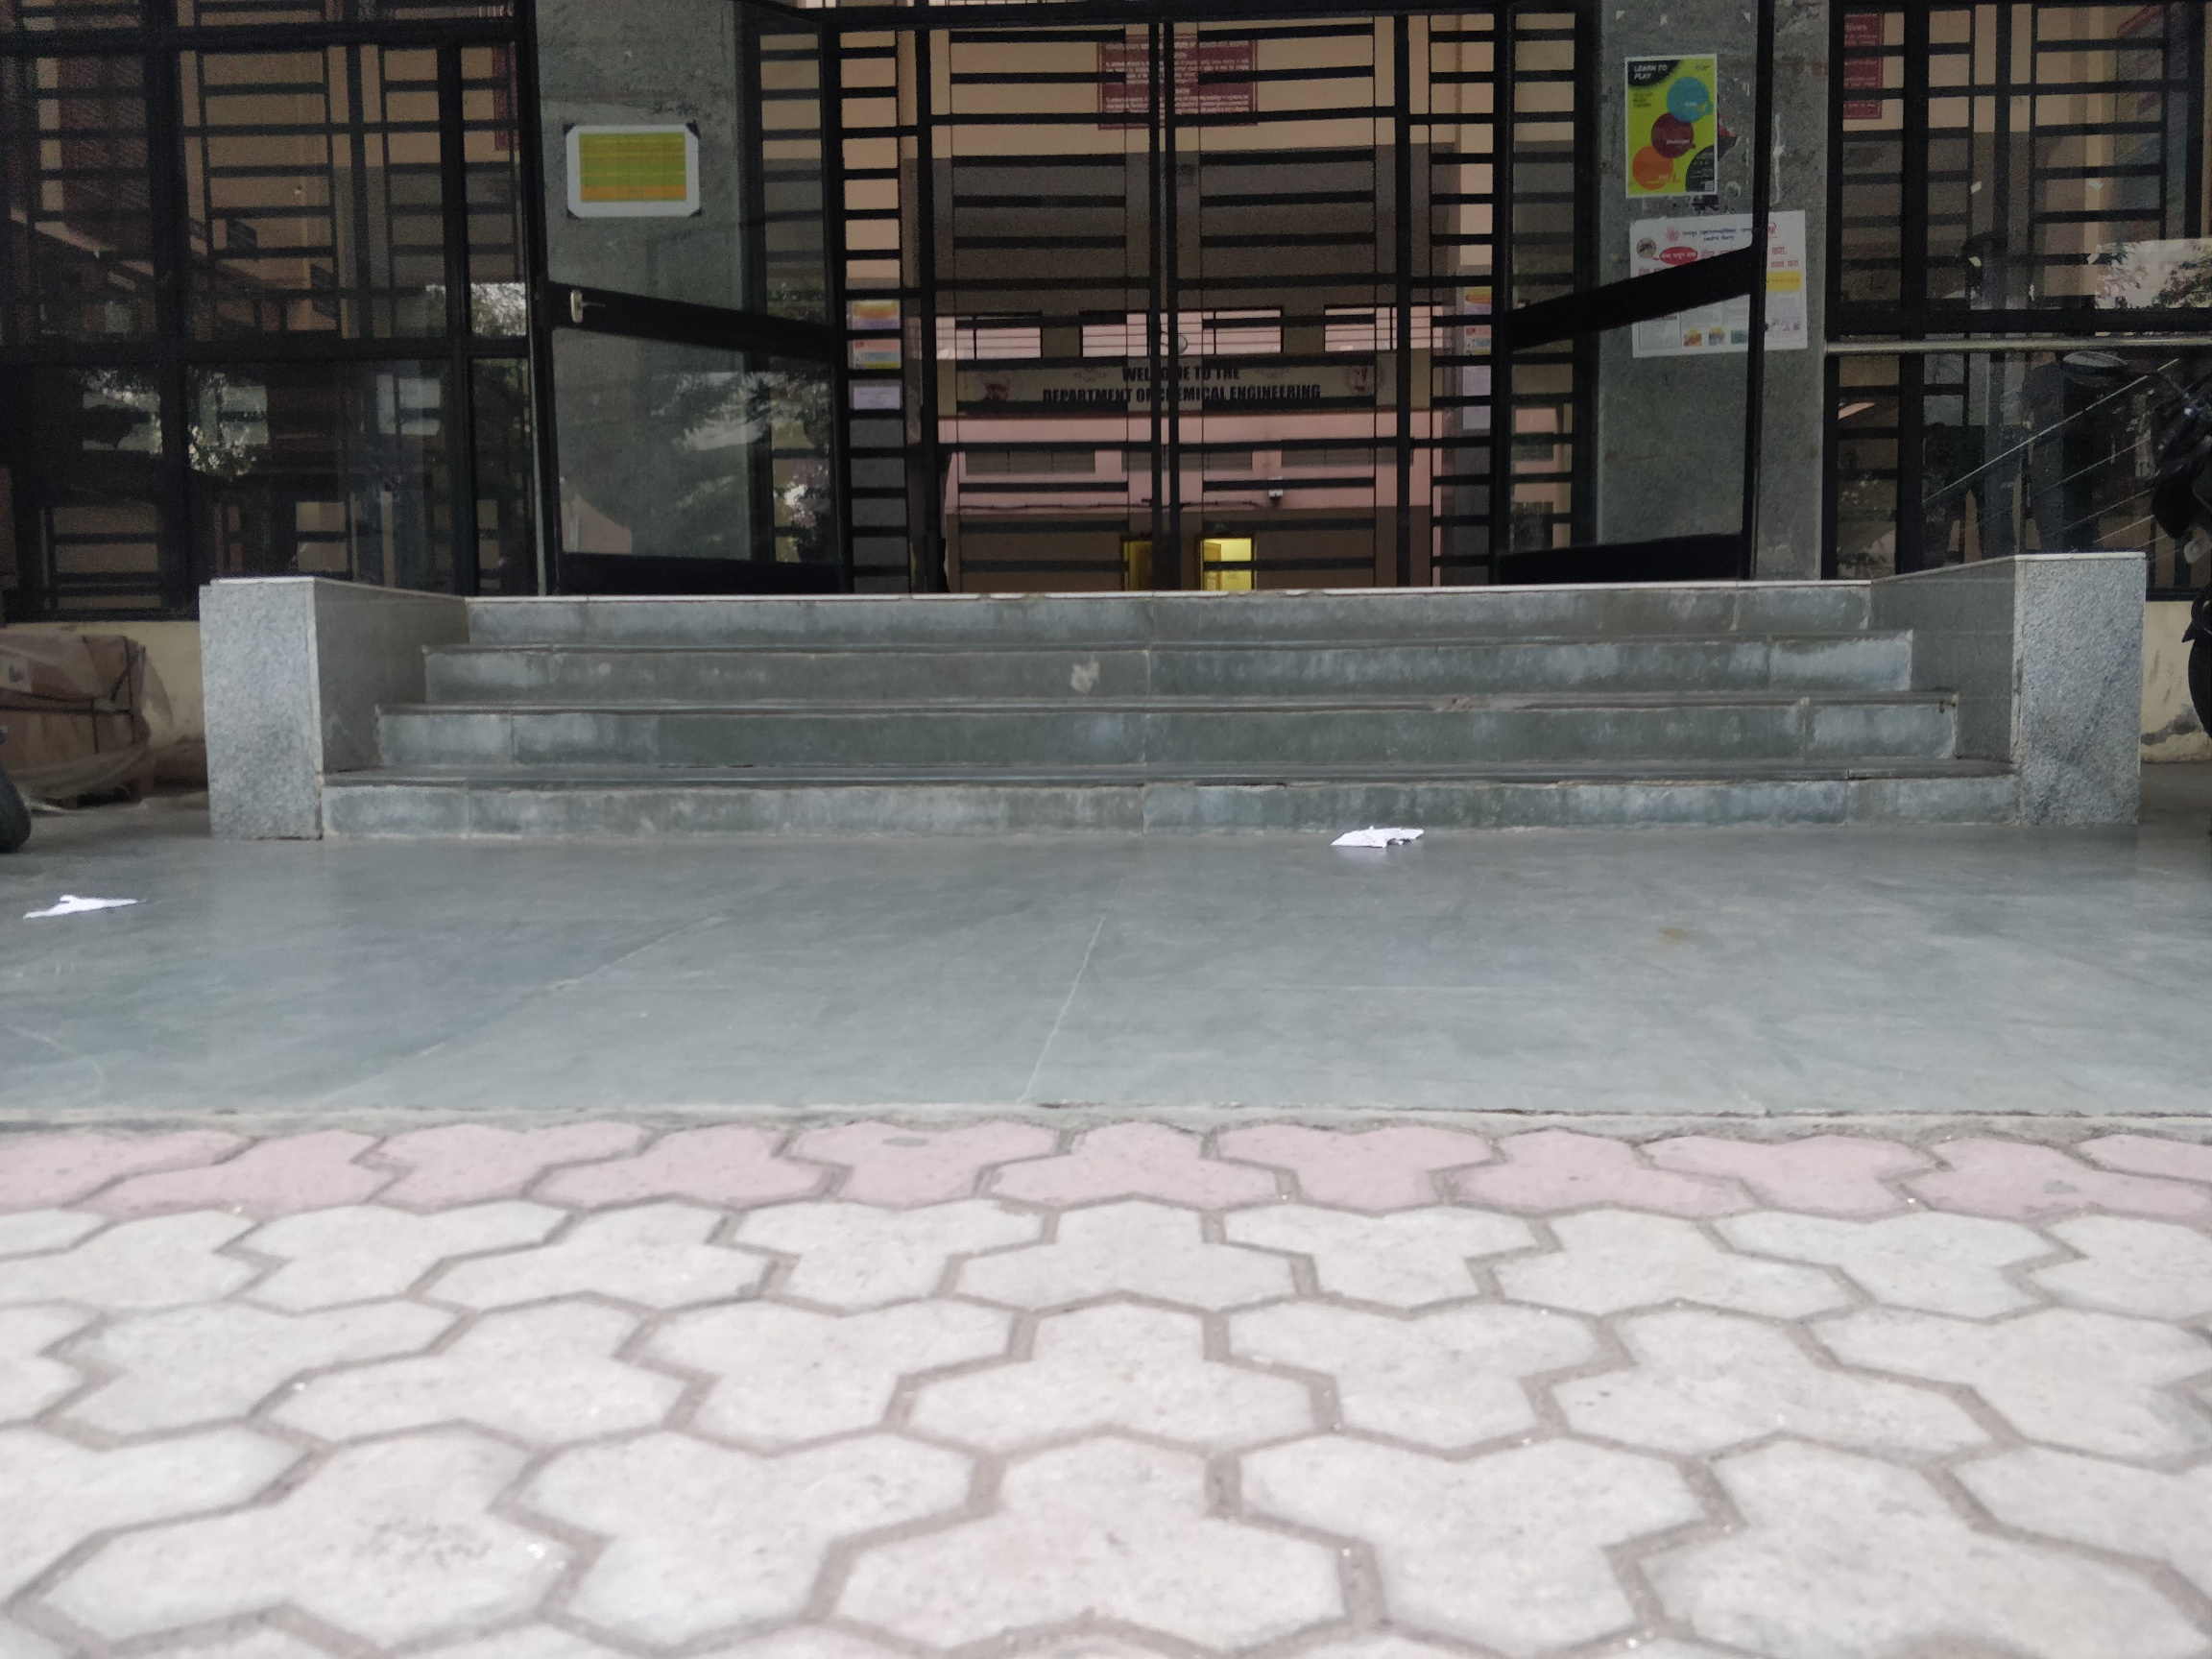stairs_up: (357, 591, 2031, 843)
